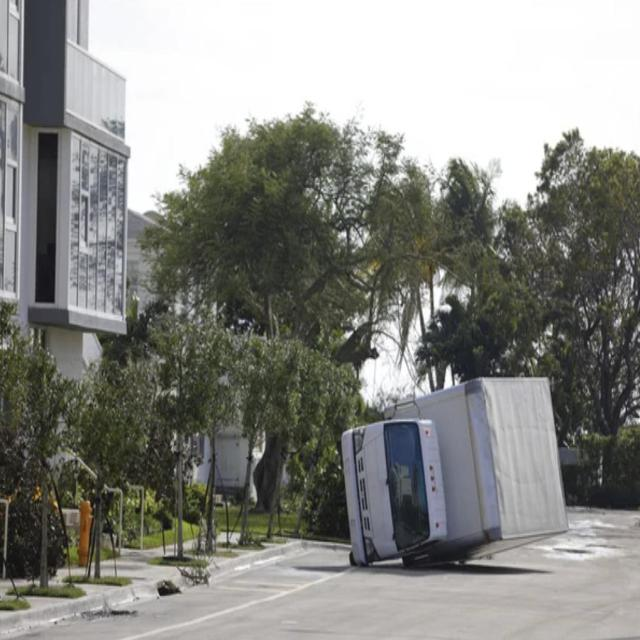severe: (335, 368, 570, 574)
